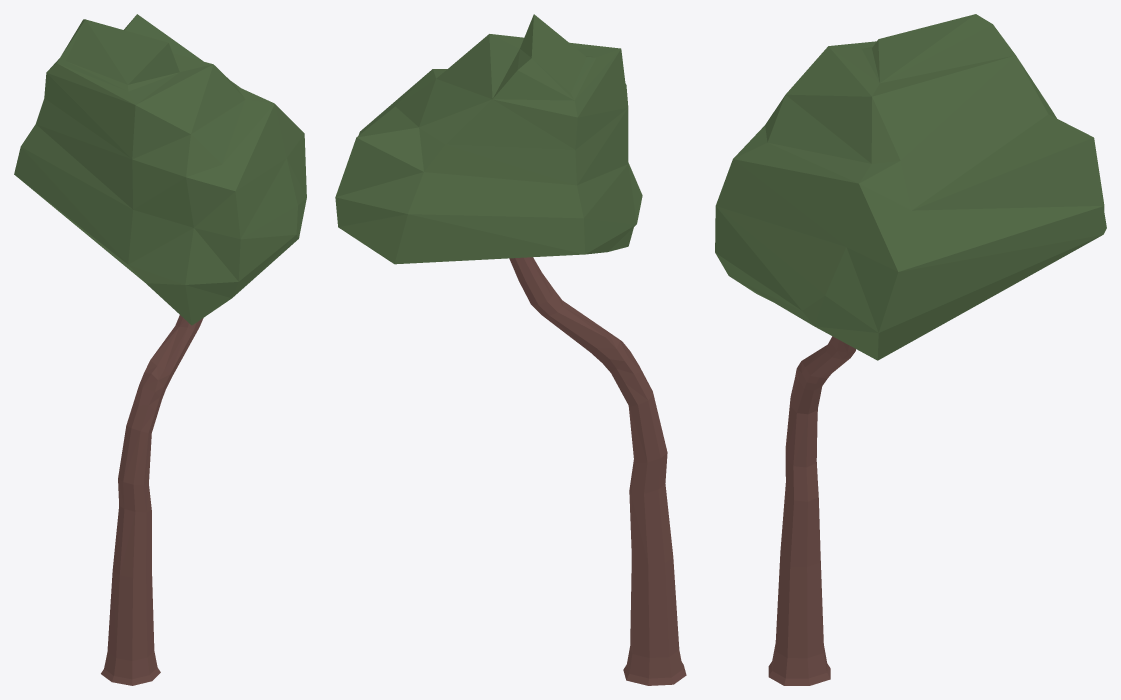
The model's file is Orange_3.glb.
3 renders of one model, left to right at view 1: azimuth 30°, elevation 25°; view 2: azimuth 150°, elevation 25°; view 3: azimuth 270°, elevation 25°, orthographic. The views are drawn at different scales.
Parts seen in each view (by area): view 1: Orange_3; view 2: Orange_3; view 3: Orange_3.
Boxes of the visible parts, bbox=[...] form: Orange_3: bbox=[14, 14, 306, 685]; Orange_3: bbox=[335, 14, 686, 685]; Orange_3: bbox=[715, 14, 1106, 685].
Size of the model in its own units: 0.9217 by 2.12 by 1.12.
